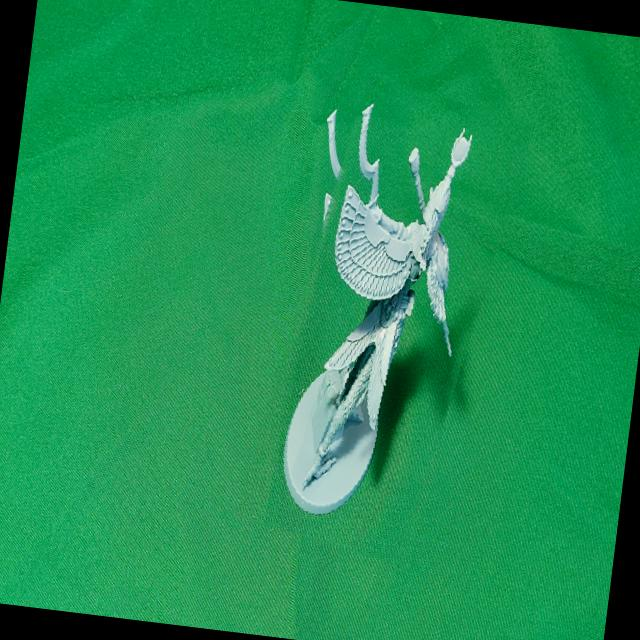isis: (251, 73, 518, 569)
